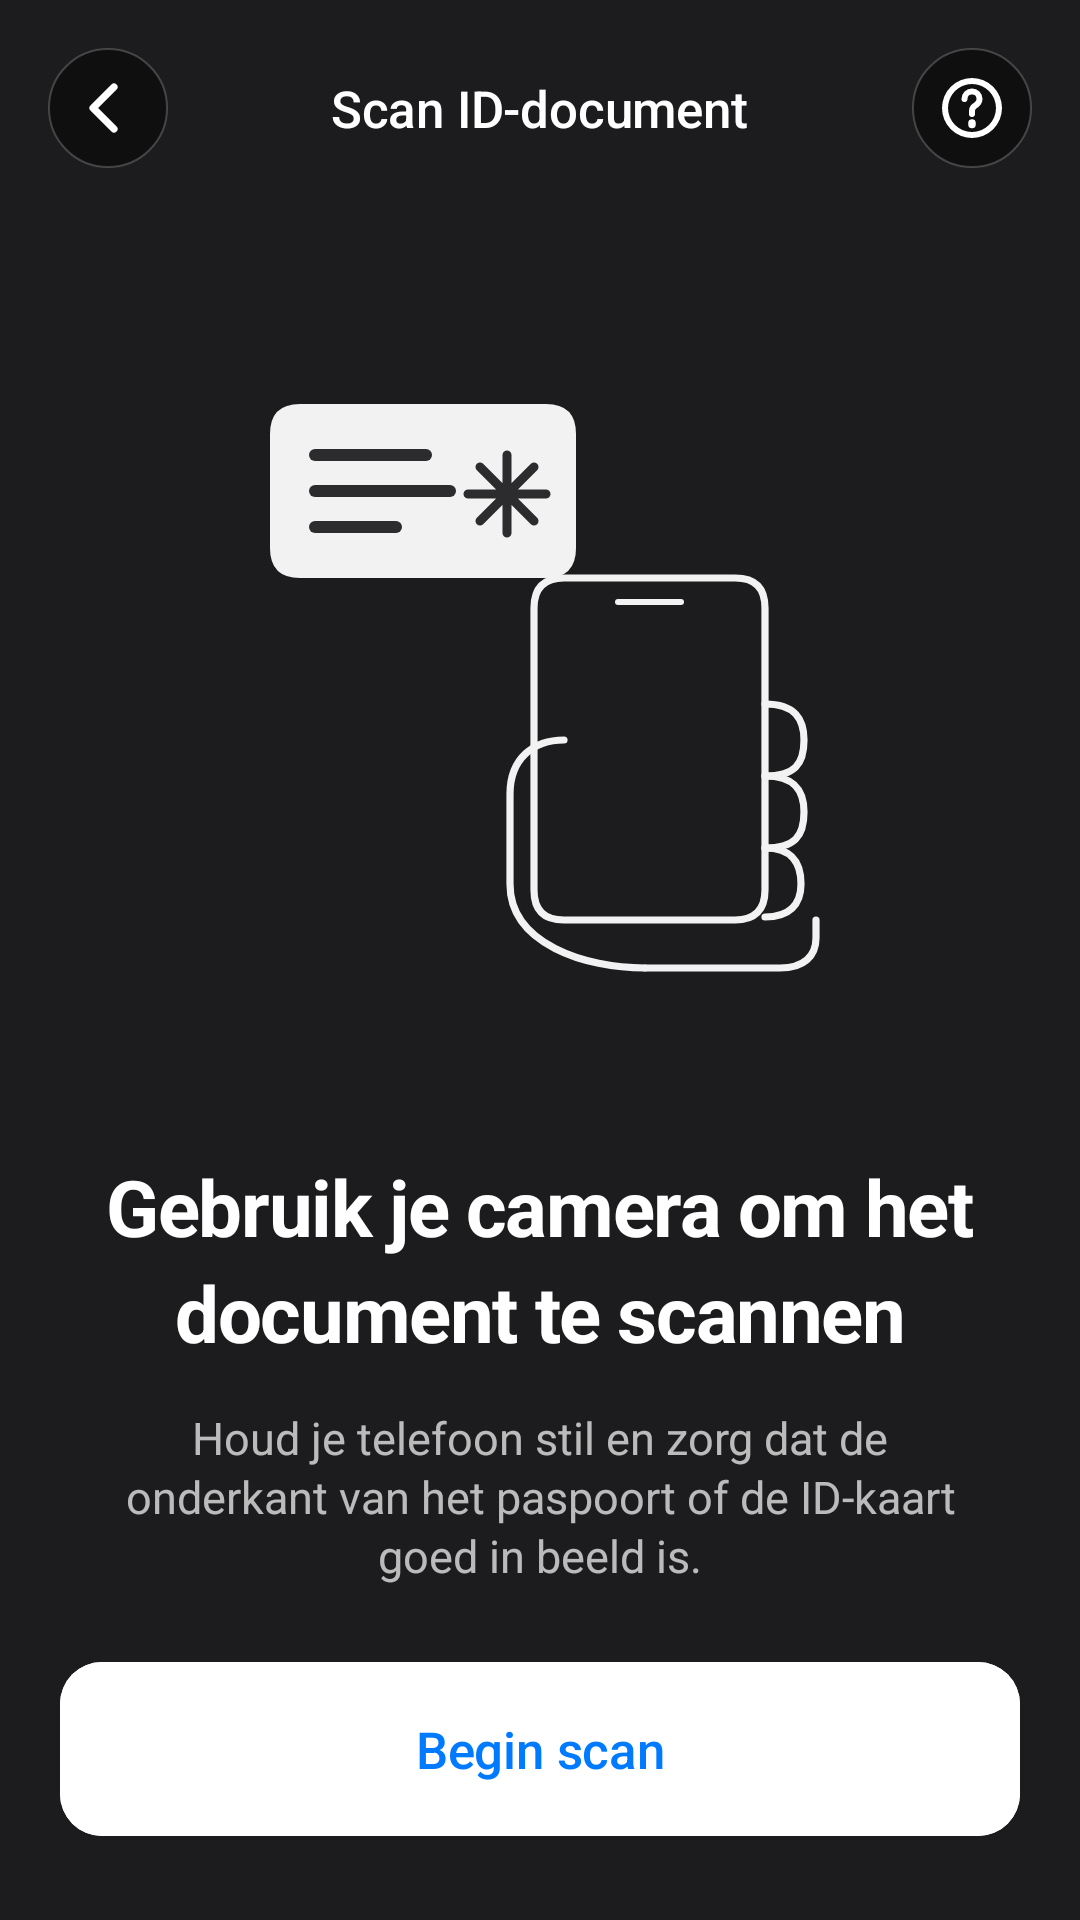

Named icons in this screenshot (1080*1920) and their centers, [x,y]:
Hulp: [972,108]
Terug: [108,108]
